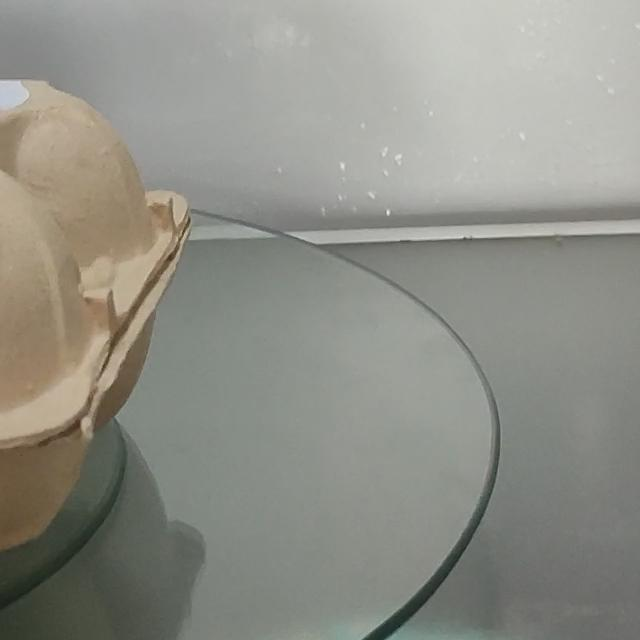egg: (0, 66, 200, 602)
